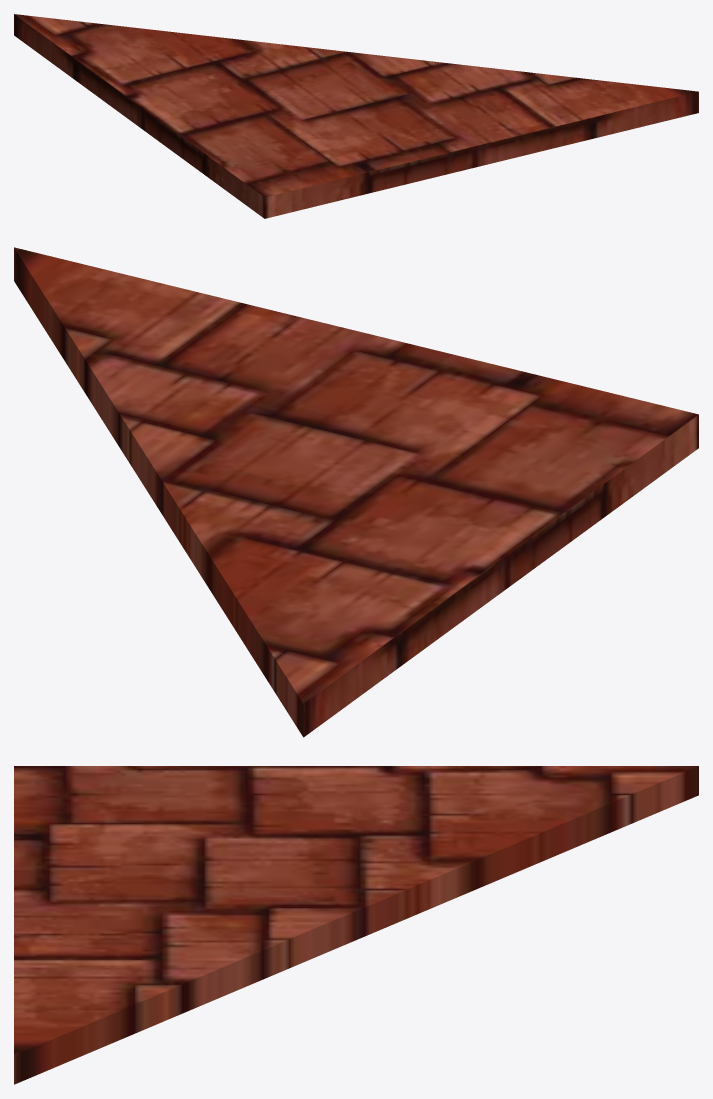
File: roof triangle.glb
3 views of the same model, one above another, from view 1: azimuth 30°, elevation 25°; view 2: azimuth 150°, elevation 25°; view 3: azimuth 270°, elevation 25° (orthographic). The views are drawn at different scales.
Parts seen in each view (by area): view 1: Plane; view 2: Plane; view 3: Plane.
Part boxes in pixels (left/top/right/bottom): Plane: left=14, top=14, right=698, bottom=218; Plane: left=14, top=247, right=698, bottom=737; Plane: left=14, top=766, right=698, bottom=1084.
Size of the model in its own units: 1 by 0.047 by 1.
1 material, 1 textured.
